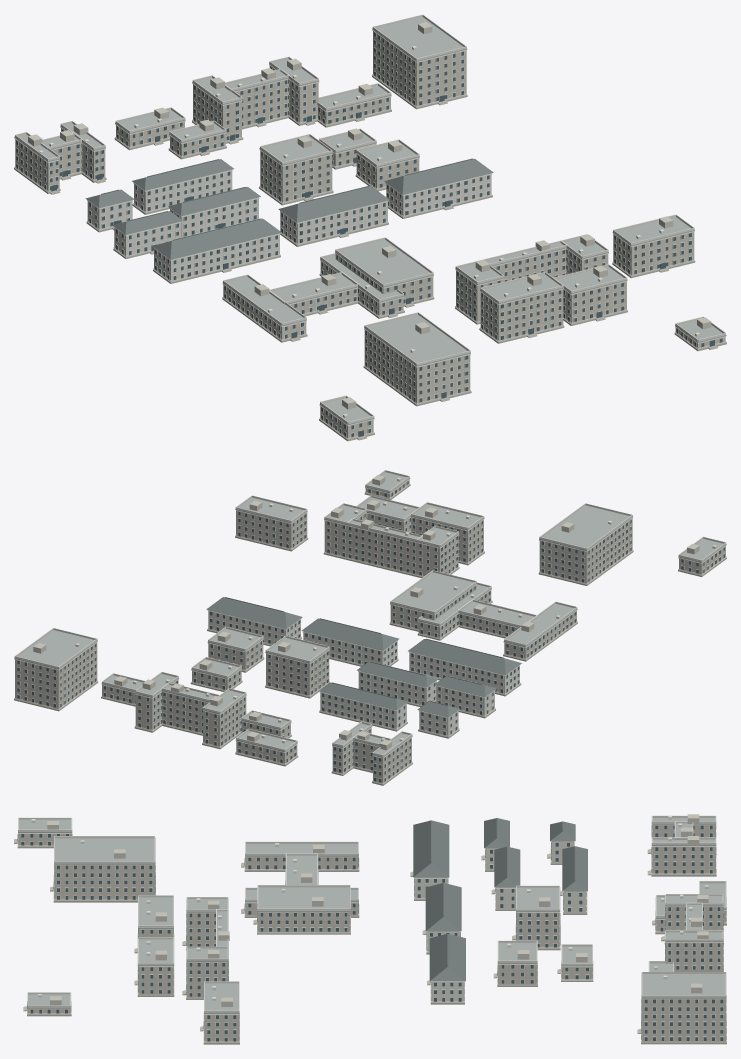
3 renders of one model, top to bottom at view 1: azimuth 30°, elevation 25°; view 2: azimuth 150°, elevation 25°; view 3: azimuth 270°, elevation 25°, orthographic. The views are drawn at different scales.
Parts seen in each view (by area): view 1: Window frames and coping details.004, Weathered flat roof details.004, Dark blue grey glazing details.004, Pale limestone details.004, Walkway stone details.004, Warm ivory plaster details.004, 国定路教师公寓.001, 新闻学院办公楼.001, 综合楼.001, 燕园宾馆 17号楼 hipped tiled roof.001, 燕园宾馆 17号楼.001, 东区学生公寓.001 (+24 smaller); view 2: Window frames and coping details.004, Weathered flat roof details.004, Dark blue grey glazing details.004, Pale limestone details.004, Walkway stone details.004, Warm ivory plaster details.004, 国定路教师公寓.001, 新闻学院办公楼.001, 新闻学院北楼 · 横楼.001, 燕园宾馆 17号楼 hipped tiled roof.001, 东区学生公寓.001, 新闻学院教学楼.001 (+24 smaller); view 3: Weathered flat roof details.004, Window frames and coping details.004, Pale limestone details.004, Dark blue grey glazing details.004, Walkway stone details.004, 国定路教师公寓.001, 新闻学院办公楼.001, Warm ivory plaster details.004, 燕园宾馆 17号楼 hipped tiled roof.001, 燕园宾馆 18号楼 hipped tiled roof.001, 燕园宾馆 19号楼 hipped tiled roof.001, 演播厅.001 (+17 smaller).
Boxes of the visible parts, x1,y1,x2,y2 form: Window frames and coping details.004: (14, 30, 726, 438); Weathered flat roof details.004: (14, 17, 726, 424); Dark blue grey glazing details.004: (16, 32, 722, 437); Pale limestone details.004: (15, 14, 725, 424); Walkway stone details.004: (14, 75, 726, 441); Warm ivory plaster details.004: (28, 22, 711, 409); 国定路教师公寓.001: (373, 31, 466, 106); 新闻学院办公楼.001: (364, 330, 470, 404); 综合楼.001: (480, 288, 563, 341); 燕园宾馆 17号楼 hipped tiled roof.001: (152, 218, 281, 259); 燕园宾馆 17号楼.001: (154, 233, 279, 281); 东区学生公寓.001: (260, 151, 332, 203); Window frames and coping details.004: (14, 477, 726, 783); Weathered flat roof details.004: (14, 472, 726, 757); Dark blue grey glazing details.004: (17, 481, 724, 782); Pale limestone details.004: (14, 470, 726, 756); Walkway stone details.004: (14, 484, 726, 785); Warm ivory plaster details.004: (33, 475, 699, 750); 国定路教师公寓.001: (15, 642, 97, 708); 新闻学院办公楼.001: (539, 519, 632, 583); 新闻学院北楼 · 横楼.001: (347, 525, 416, 575); 燕园宾馆 17号楼 hipped tiled roof.001: (408, 639, 521, 674); 东区学生公寓.001: (266, 651, 329, 696); 新闻学院教学楼.001: (236, 510, 307, 549); Weathered flat roof details.004: (18, 818, 726, 1013); Window frames and coping details.004: (18, 816, 726, 1042); Pale limestone details.004: (18, 815, 726, 1012); Dark blue grey glazing details.004: (17, 825, 723, 1041); Walkway stone details.004: (14, 834, 726, 1044); 国定路教师公寓.001: (642, 998, 725, 1042); 新闻学院办公楼.001: (54, 864, 154, 900); Warm ivory plaster details.004: (47, 814, 708, 1006); 燕园宾馆 17号楼 hipped tiled roof.001: (413, 820, 449, 877); 燕园宾馆 18号楼 hipped tiled roof.001: (425, 883, 461, 931); 燕园宾馆 19号楼 hipped tiled roof.001: (429, 933, 465, 981); 演播厅.001: (257, 911, 350, 931).
Bounding box in the file's own units: 193 × 22.35 × 278.
